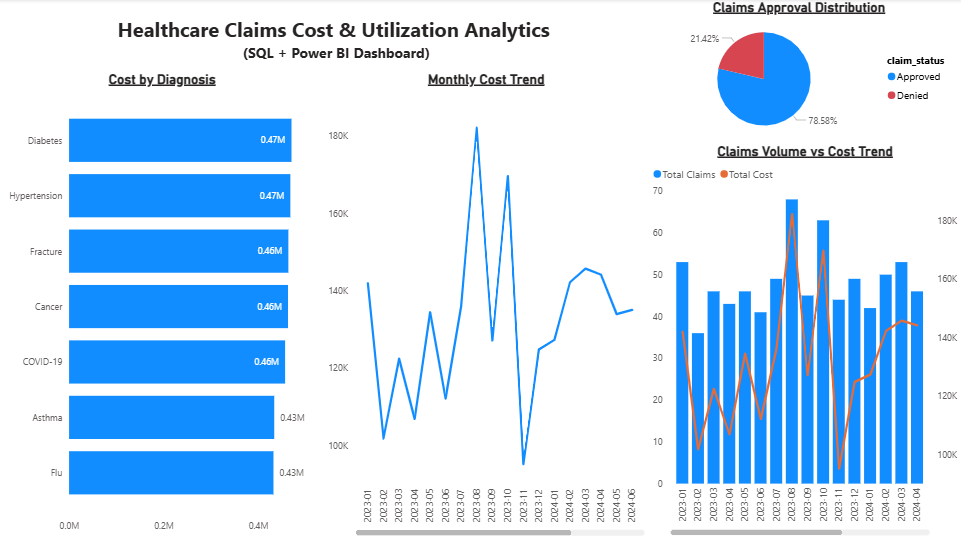

This screenshot's page, from the dashboard's own definition file:
{"tool":"powerbi","page":{"name":"Analysis","canvas":[1280,720],"ordinal":1},"visuals":[{"type":"clusteredBarChart","title":"Cost by Diagnosis","fields":{"Category":["claims.diagnosis"],"Y":["Sum(claims.claim_amount)"]},"box":[0,96,432,624],"z":0},{"type":"lineChart","title":"Monthly Cost Trend","fields":{"Y":["Sum(claims.claim_amount)"],"Category":["claims.MonthYear"]},"box":[432,96,432,624],"z":1},{"type":"lineClusteredColumnComboChart","title":"Claims Volume vs Cost Trend","fields":{"Y":["CountNonNull(claims.claim_id)"],"Y2":["Sum(claims.claim_amount)"],"Category":["claims.MonthYear"]},"box":[864,192,416,528],"z":2},{"type":"pieChart","title":"Claims Approval Distribution","fields":{"Category":["claims.claim_status"],"Y":["CountNonNull(claims.claim_id)"]},"box":[848,0,432,192],"z":3},{"type":"textbox","box":[0,0,896,96],"z":4}]}

Visuals, with their boxes in screenshot pixels (x1, y1, x2, y2), scaled from the page's 1280x720 canvas onto the 961x539 screenshot:
"Cost by Diagnosis" clusteredBarChart: 0 72 324 538
"Monthly Cost Trend" lineChart: 324 72 649 538
"Claims Volume vs Cost Trend" lineClusteredColumnComboChart: 649 144 960 538
"Claims Approval Distribution" pieChart: 637 0 960 144
textbox: 0 0 673 72
